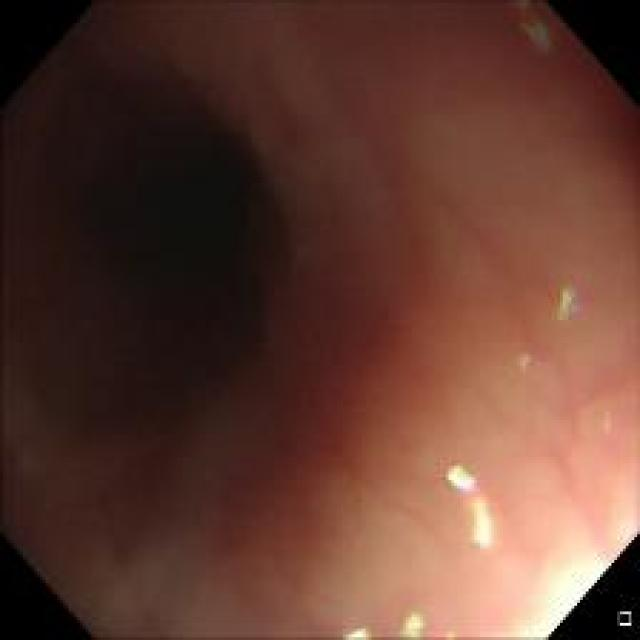color misalignment: (520, 6, 556, 59), (462, 501, 500, 551), (548, 280, 586, 326), (442, 461, 479, 490), (511, 344, 535, 378), (405, 610, 431, 634), (598, 409, 616, 438), (341, 625, 378, 636)
contrast: (18, 68, 318, 509)
saturation: (509, 566, 602, 632)
